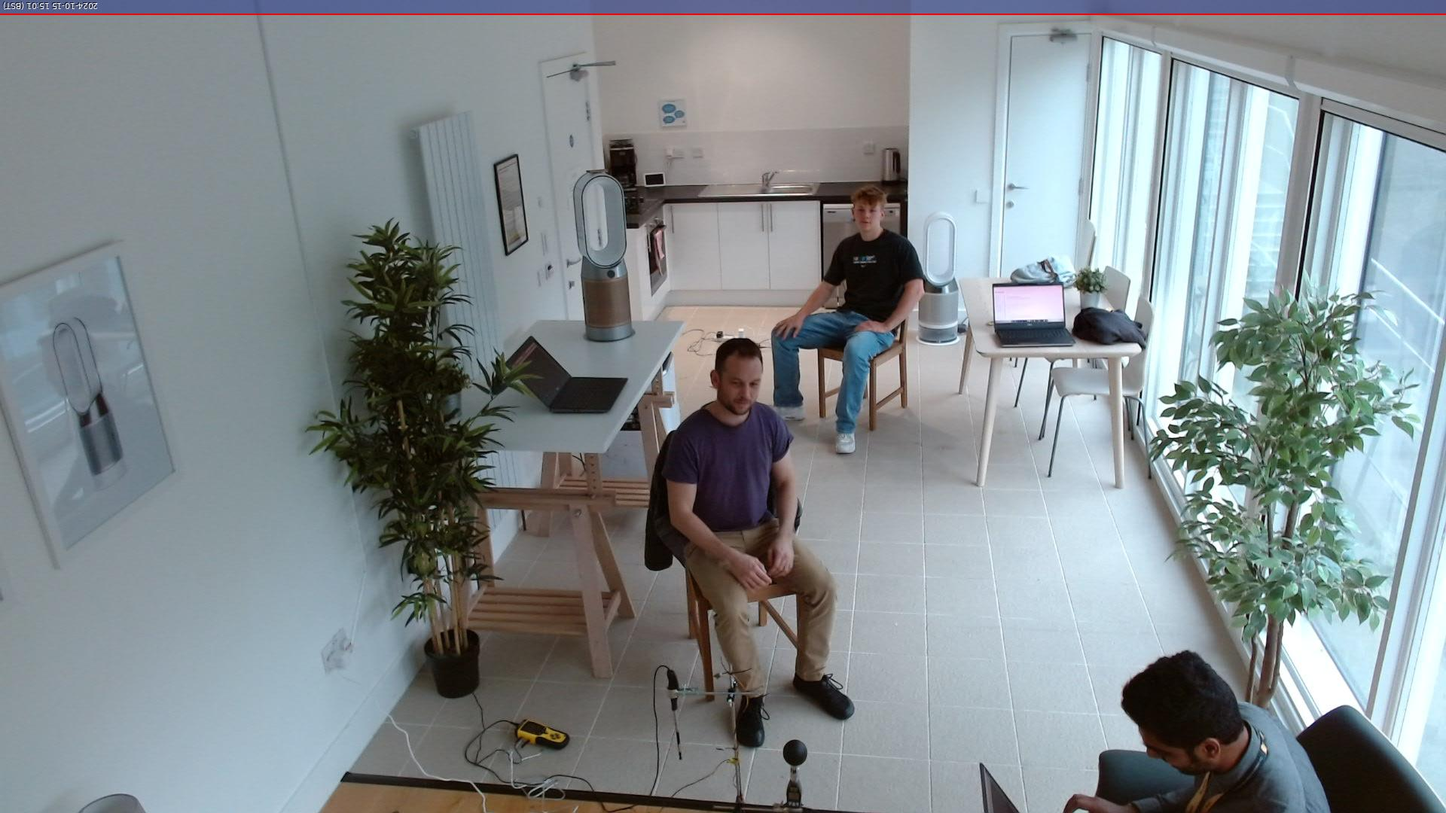long sleeve shirt: (1125, 699, 1331, 812)
short sleeve shirt: (663, 398, 797, 531), (820, 228, 926, 330)
trousers: (680, 523, 842, 699), (768, 307, 897, 434)
